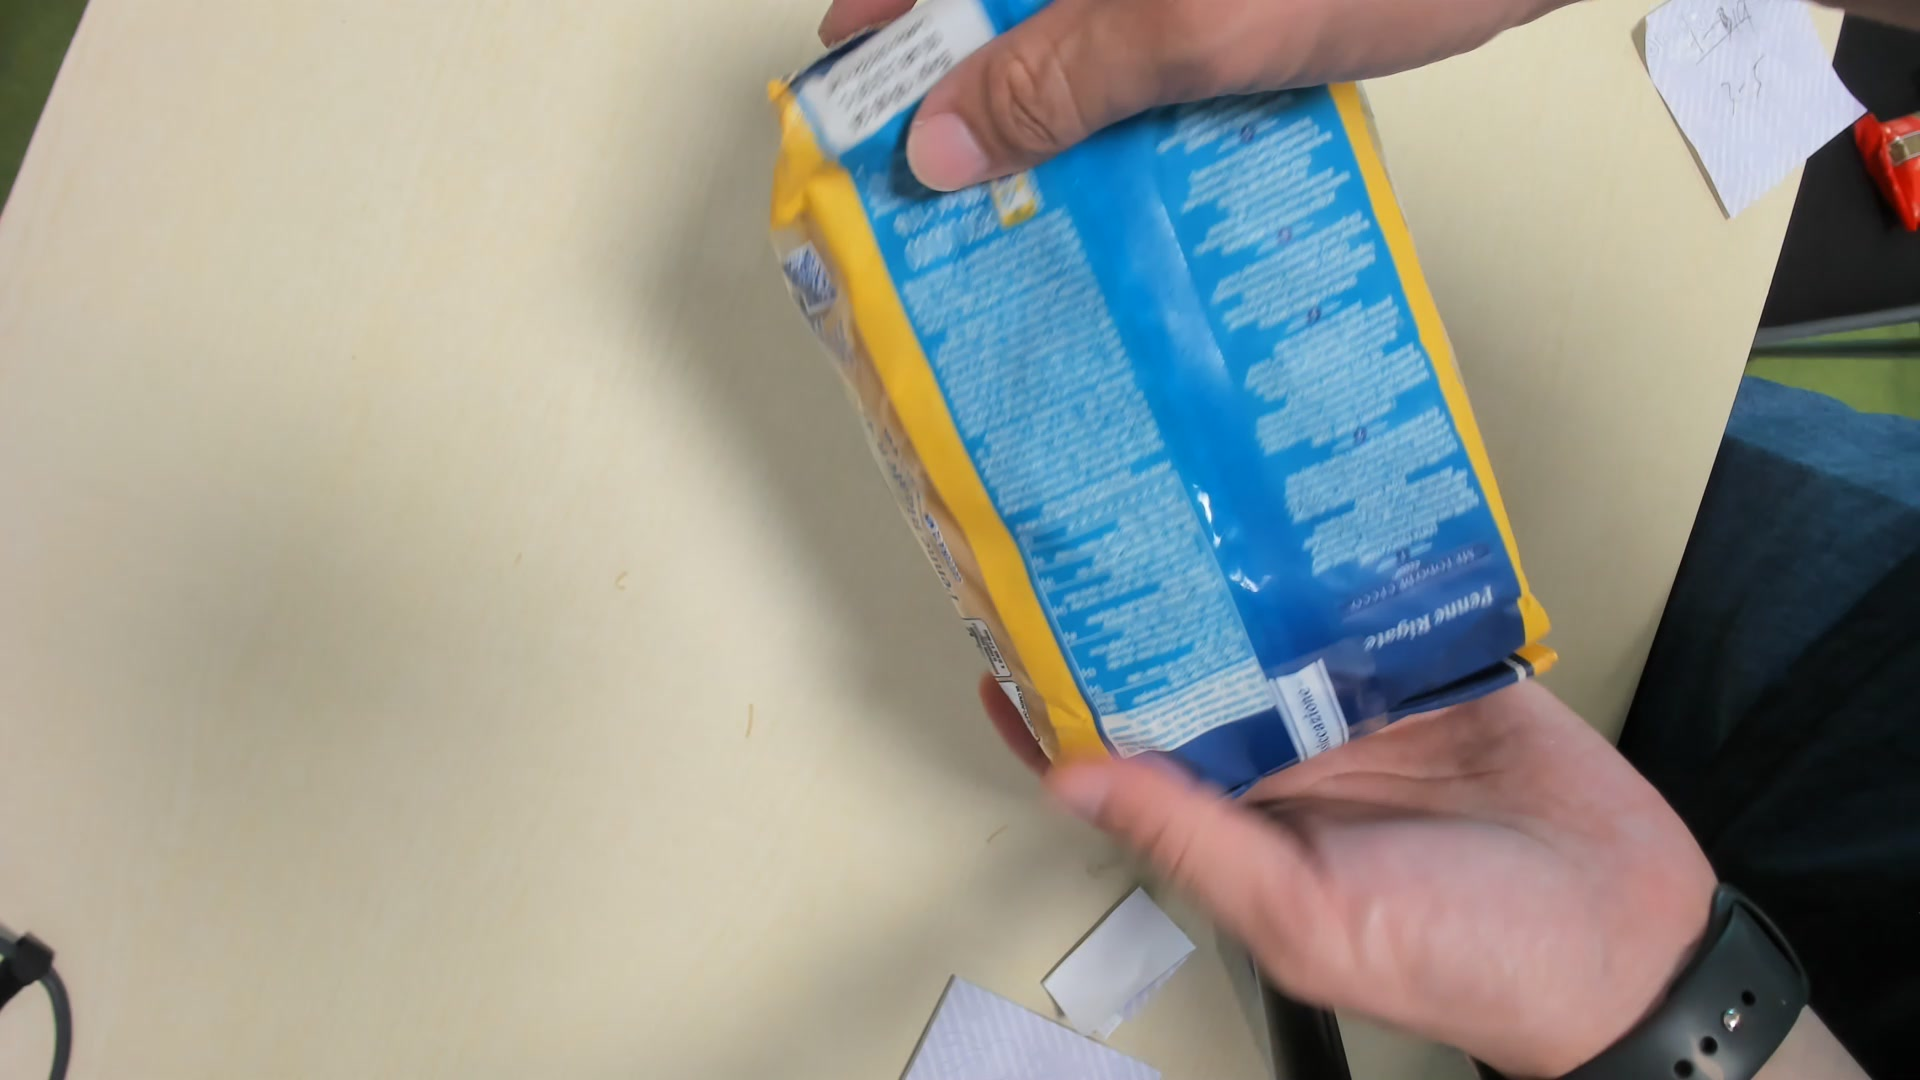Pasta_500-599g_NonHalal_NonHealthy: (764, 3, 1547, 806)
